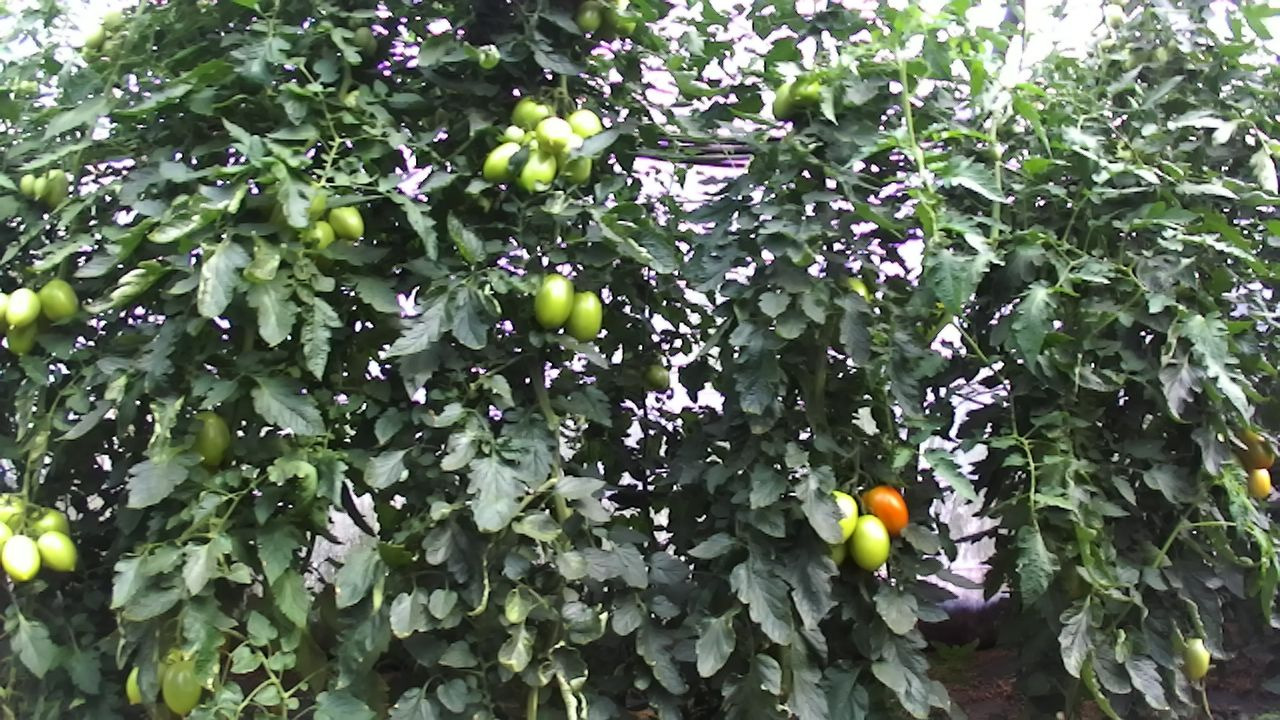tomato: (181, 406, 234, 471), (861, 483, 911, 540), (848, 511, 893, 574), (529, 271, 575, 332), (160, 658, 206, 716), (32, 276, 81, 325), (0, 531, 44, 583), (566, 287, 605, 345), (33, 528, 81, 574), (479, 138, 523, 185), (514, 147, 557, 194), (1, 313, 43, 359), (1178, 633, 1214, 686), (4, 285, 43, 333), (327, 202, 365, 246), (534, 113, 572, 156), (572, 0, 606, 35), (1247, 465, 1275, 502), (33, 174, 51, 201), (18, 173, 36, 198)
